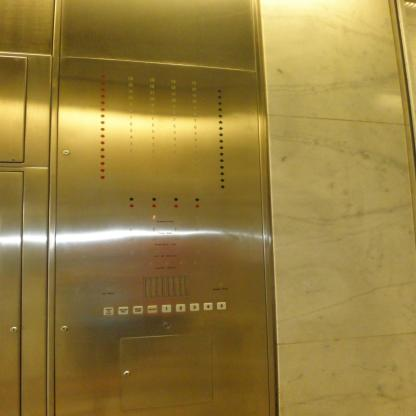1: (161, 304, 172, 313)
2: (175, 304, 186, 312)
3: (189, 302, 200, 312)
4: (203, 302, 213, 311)
5: (217, 301, 226, 310)
keyhole: (122, 370, 130, 378), (60, 325, 68, 333), (9, 326, 17, 334), (62, 149, 70, 157)
text: (146, 304, 158, 314), (102, 306, 114, 316), (118, 306, 128, 315), (132, 306, 142, 314)
